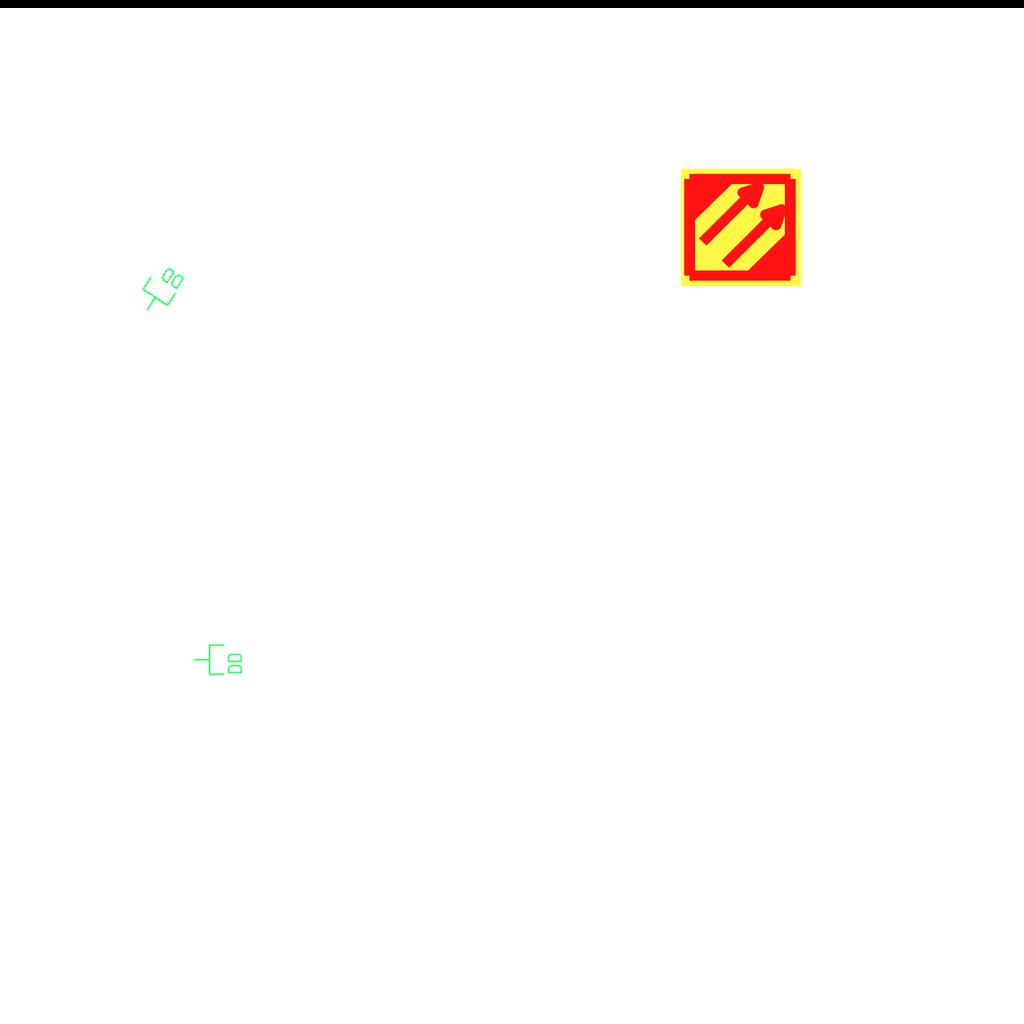ASR_Ansaugrauchmelder: (679, 165, 804, 290)
Datenanschluss_zweifach: (132, 259, 189, 321), (193, 643, 244, 677)
